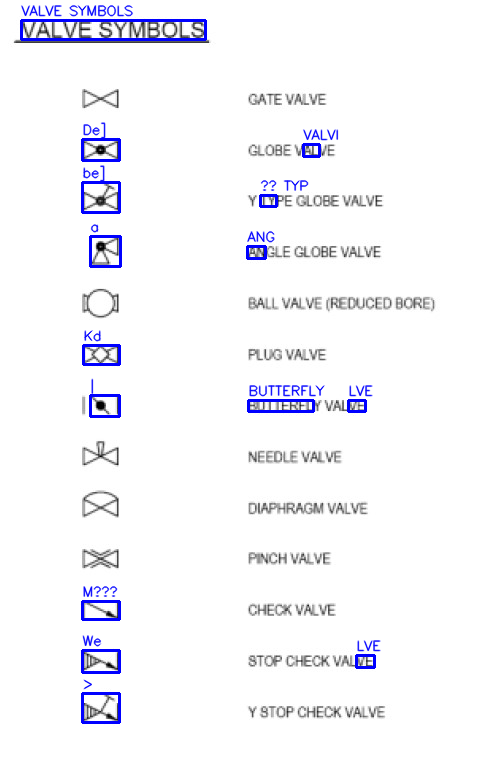Válvula: (77, 388, 124, 421), (80, 435, 122, 471), (79, 180, 124, 213), (78, 488, 123, 521), (79, 286, 121, 321), (80, 690, 121, 725), (77, 592, 123, 622), (87, 233, 123, 268), (79, 545, 123, 572), (77, 649, 122, 673), (79, 136, 122, 161), (79, 85, 121, 110), (80, 344, 121, 367)
